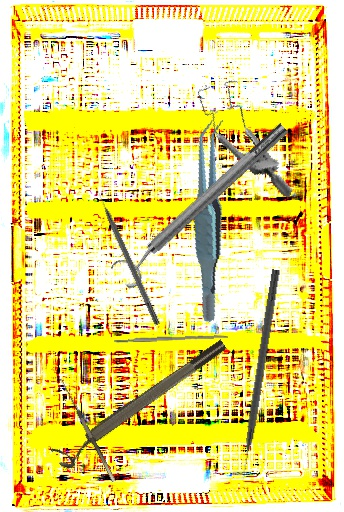Fixation Ring: (107, 115, 298, 292), (50, 336, 234, 473)
Hook Surgical: (92, 183, 162, 327), (236, 268, 282, 483), (54, 377, 116, 485)
Scalpel Handle: (113, 334, 229, 343)
Speculum: (173, 69, 324, 198)
Tissue Forceps: (159, 116, 259, 324)
